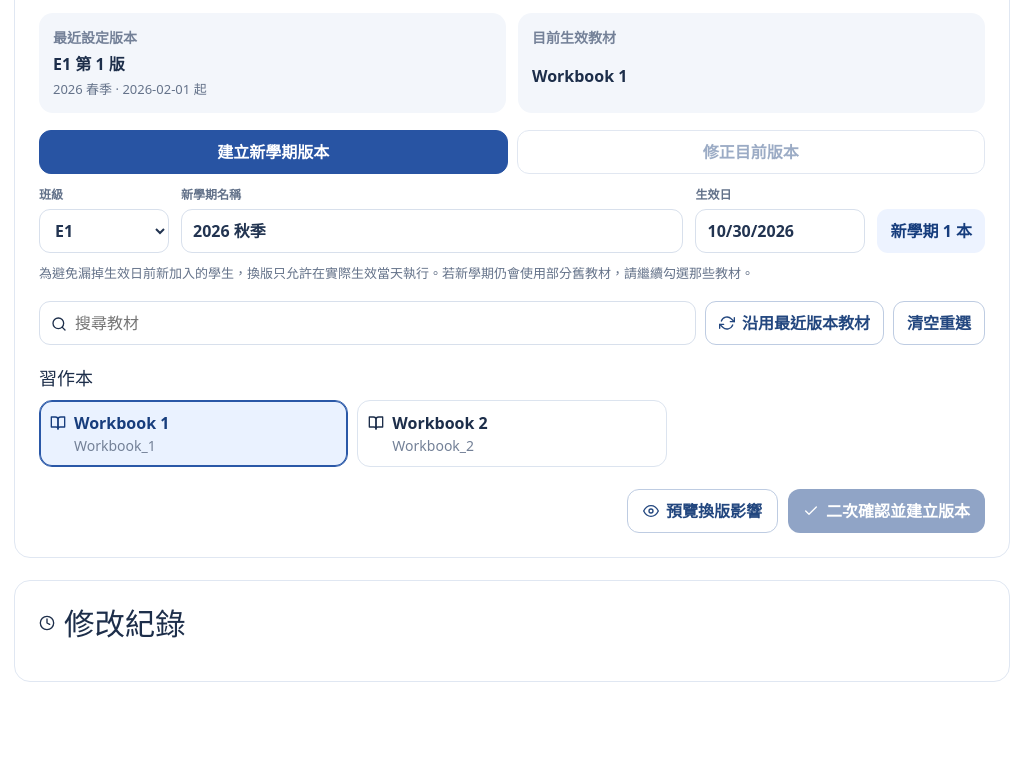
Test: AdminClassMaterials term rollover wizard › invalidates an old preview when the new book selection changes
(page scrolled)
Expected: the text "E1 第 1 版" is shown, [53,53,125,75]
Click the button "預覽換版影響".
click(702, 510)  # box [627,488,778,532]
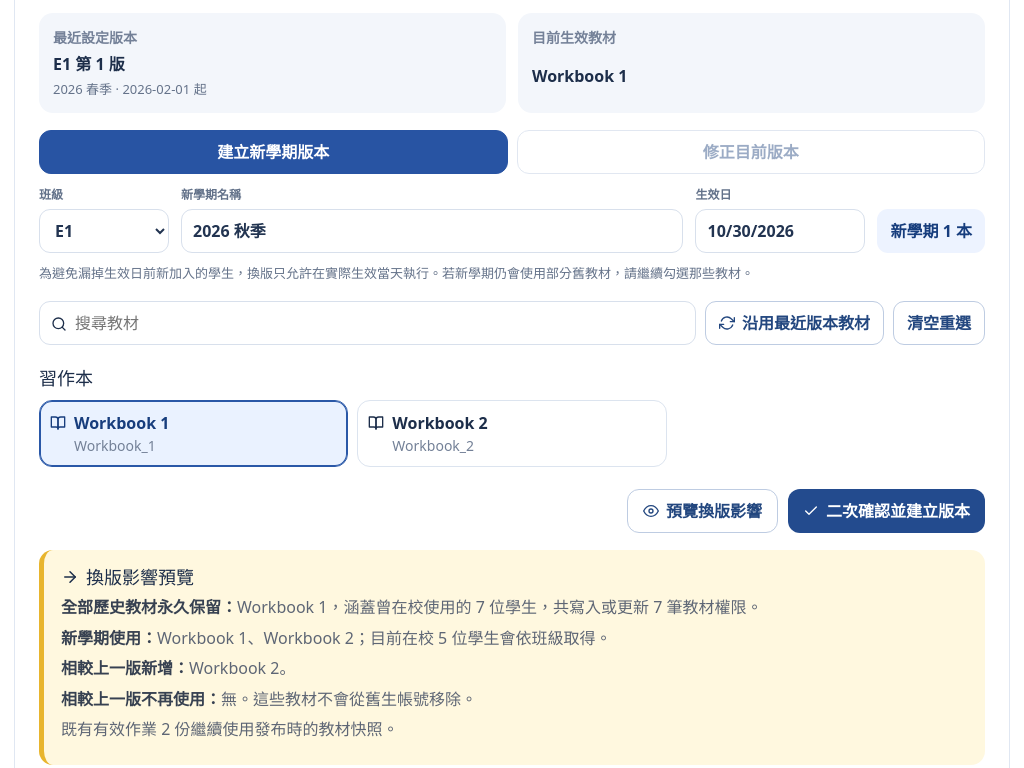
Expected: the heading "換版影響預覽" is shown, [61,564,194,588]
Click the checkbox labelled "Workbook 2 Workbook_2".
click(512, 433)  # box [357,400,667,466]
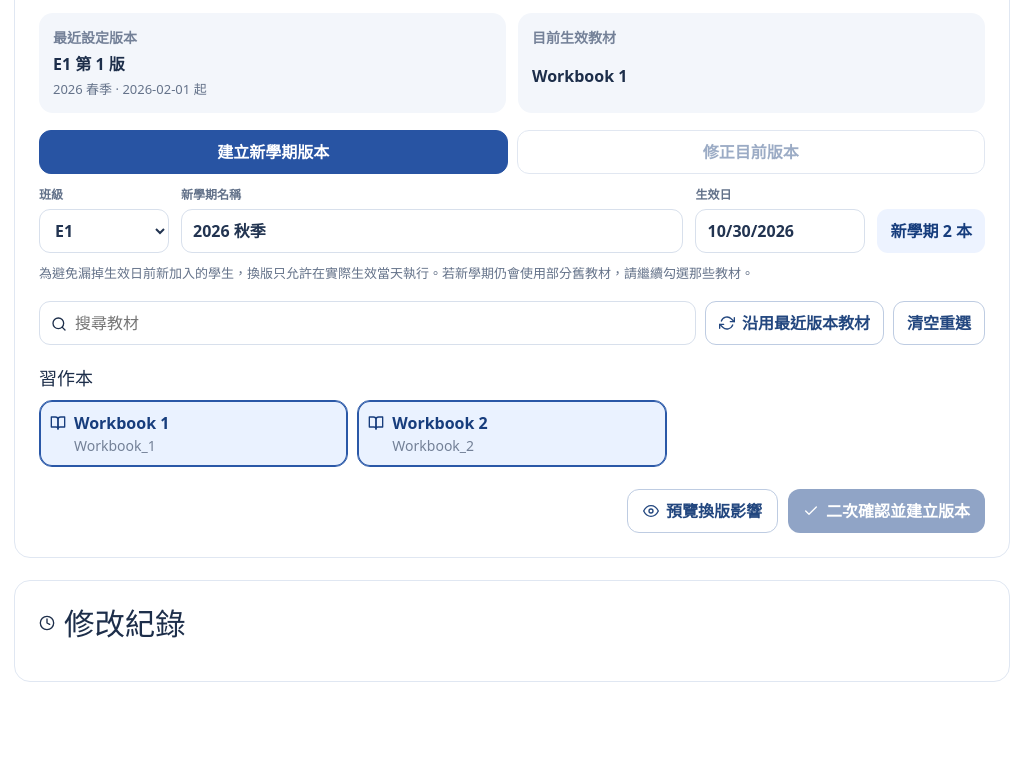
Expected: the heading "換版影響預覽" is gone
Expected: the button "二次確認並建立版本" is disabled, [788,488,985,532]
